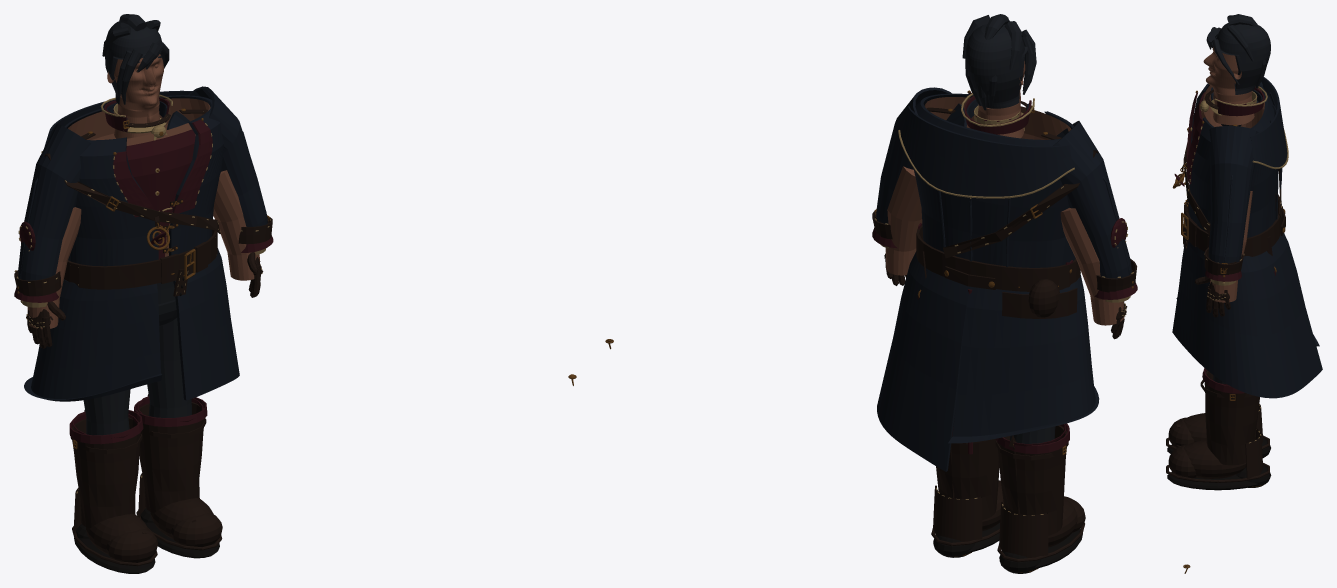
Rendered from SM_Character_VeilboundWayfarer.obj.
The picture shows the model from 3 angles, left to right: view 1: azimuth 30°, elevation 25°; view 2: azimuth 150°, elevation 25°; view 3: azimuth 270°, elevation 25°; orthographic projection. The views are drawn at different scales.
Parts seen in each view (by area): view 1: SM_Character_VeilboundWayfarer; view 2: SM_Character_VeilboundWayfarer; view 3: SM_Character_VeilboundWayfarer.
Part boxes in pixels (x1=…): SM_Character_VeilboundWayfarer: x1=14, y1=14, x2=576, y2=573; SM_Character_VeilboundWayfarer: x1=605, y1=14, x2=1137, y2=573; SM_Character_VeilboundWayfarer: x1=1166, y1=14, x2=1322, y2=573.
Bounding box in the file's own units: 1.97 × 1.85 × 0.5744.
